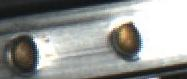joints: (3, 29, 44, 75), (105, 16, 144, 60)
